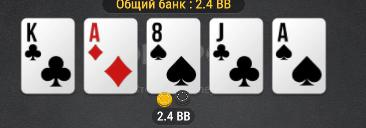8s: (148, 20, 198, 92)
Ad: (86, 20, 136, 93)
As: (274, 20, 324, 93)
Jc: (211, 19, 263, 93)
Kc: (23, 19, 73, 92)
